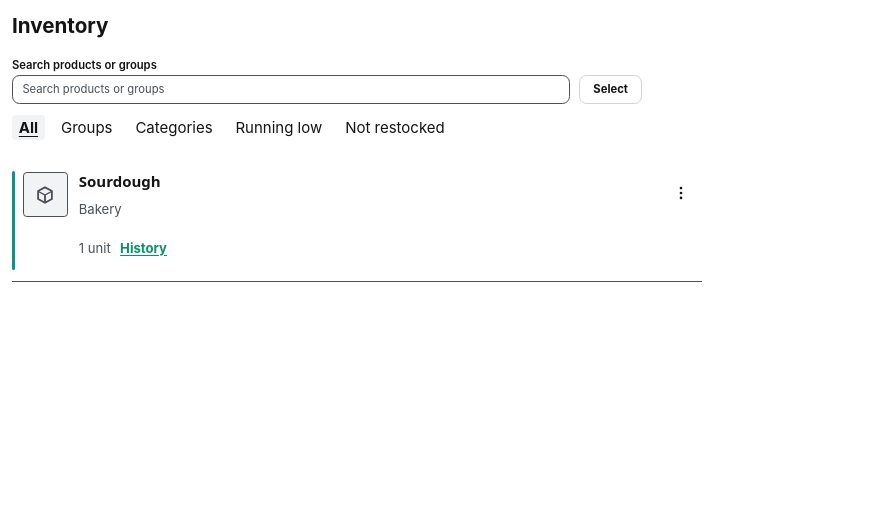
Test: InventoryPage › shows the product barcode only in the expanded row
The width and height of the screenshot is (887, 528).
Check: the text "Barcode:" is not shown
Click the button named "Actions for Sourdough" at [681, 193], box [661,172,702,213]
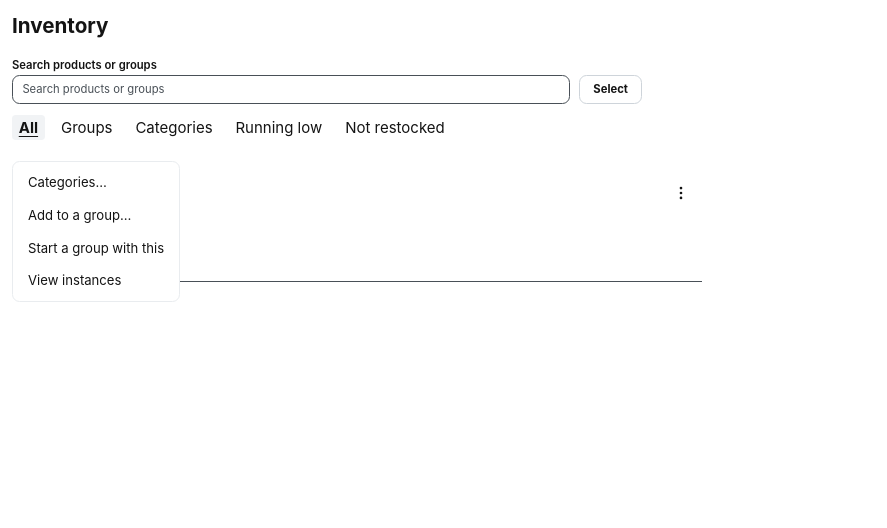
Click the menu item "View instances" at [96, 281], box [17,264,175,297]
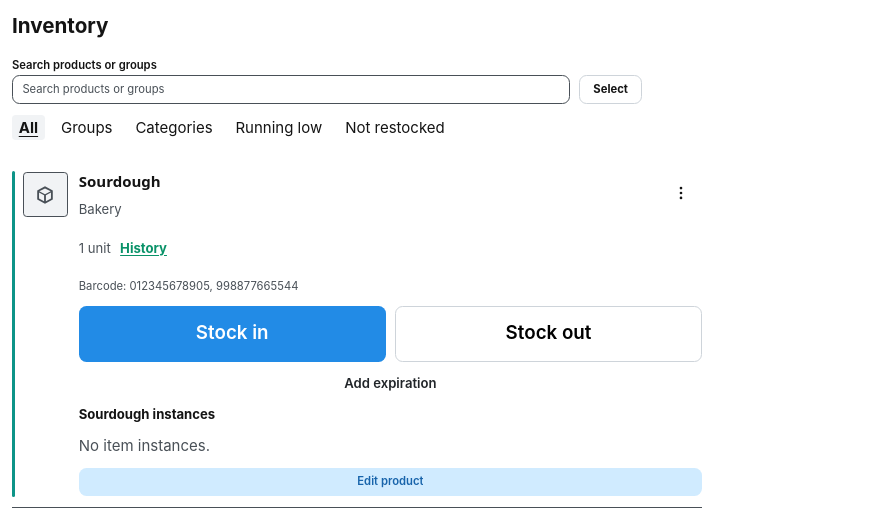
Click the button named "Actions for Sourdough" at [681, 193], box [661,172,702,213]
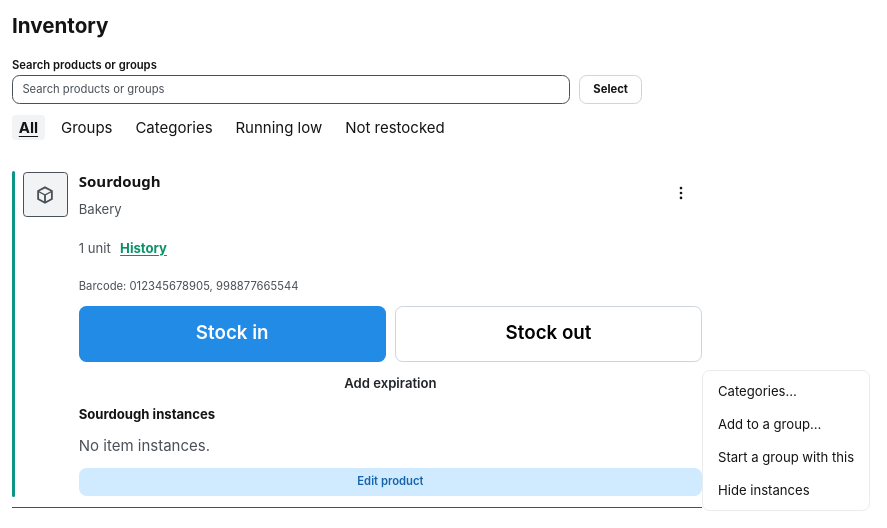
Click the menu item "Hide instances" at [786, 490], box [707,474,865,506]
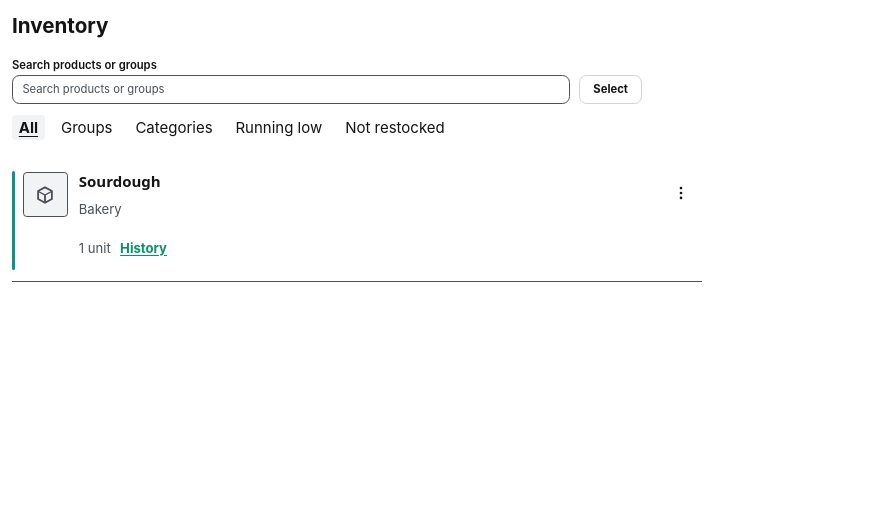
Check: the text "Barcode:" is gone
